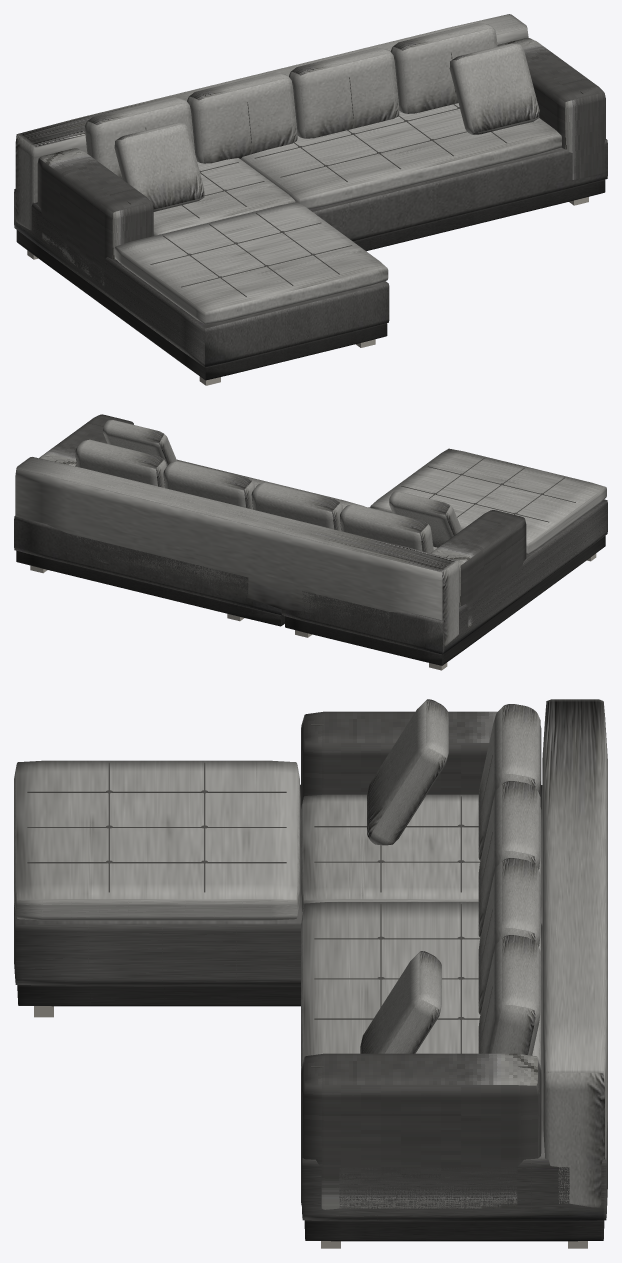
File: galaxy.glb
3 renders of one model, top to bottom at view 1: azimuth 30°, elevation 25°; view 2: azimuth 150°, elevation 25°; view 3: azimuth 270°, elevation 25°, orthographic. The views are drawn at different scales.
Visible parts, largest first — view 1: galaxy, ukrasni_jastuk (×2), jastuk_1, jastuk_2, jastuk_3, jastuk_0; view 2: galaxy, ukrasni_jastuk (×2), jastuk_0, jastuk_3, jastuk_2, jastuk_1; view 3: galaxy, ukrasni_jastuk (×2), jastuk_3, jastuk_2, jastuk_1, jastuk_0.
Boxes of the visible parts, bbox=[...] form: galaxy: bbox=[14, 14, 607, 385]; ukrasni_jastuk (×2): bbox=[114, 43, 539, 211]; jastuk_1: bbox=[187, 72, 297, 163]; jastuk_2: bbox=[289, 47, 399, 138]; jastuk_3: bbox=[390, 22, 497, 113]; jastuk_0: bbox=[85, 97, 195, 179]; galaxy: bbox=[14, 414, 607, 670]; ukrasni_jastuk (×2): bbox=[103, 420, 461, 547]; jastuk_0: bbox=[340, 504, 433, 553]; jastuk_3: bbox=[75, 439, 166, 487]; jastuk_2: bbox=[163, 461, 254, 509]; jastuk_1: bbox=[251, 482, 343, 530]; galaxy: bbox=[14, 699, 607, 1248]; ukrasni_jastuk (×2): bbox=[360, 699, 448, 1053]; jastuk_3: bbox=[478, 935, 540, 1055]; jastuk_2: bbox=[478, 858, 540, 1014]; jastuk_1: bbox=[478, 781, 540, 937]; jastuk_0: bbox=[478, 704, 540, 860].
Bounding box in the file's own units: 2.66 × 0.7398 × 1.78.
7 materials, 5 textured.
